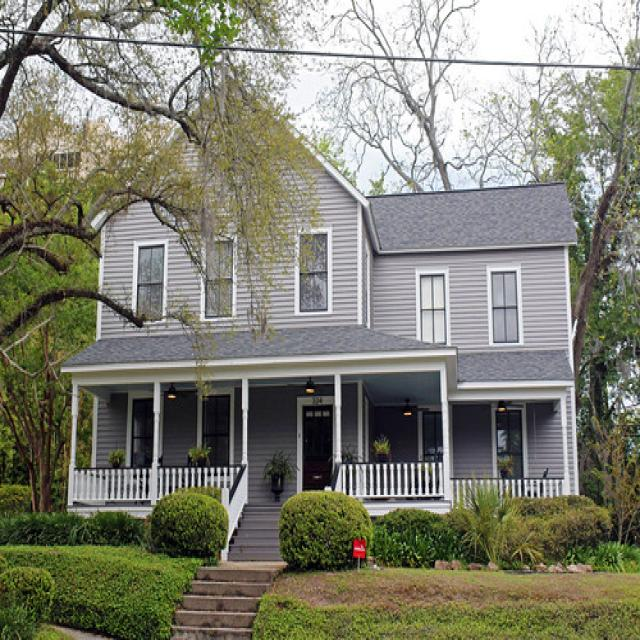building: (62, 65, 588, 563)
